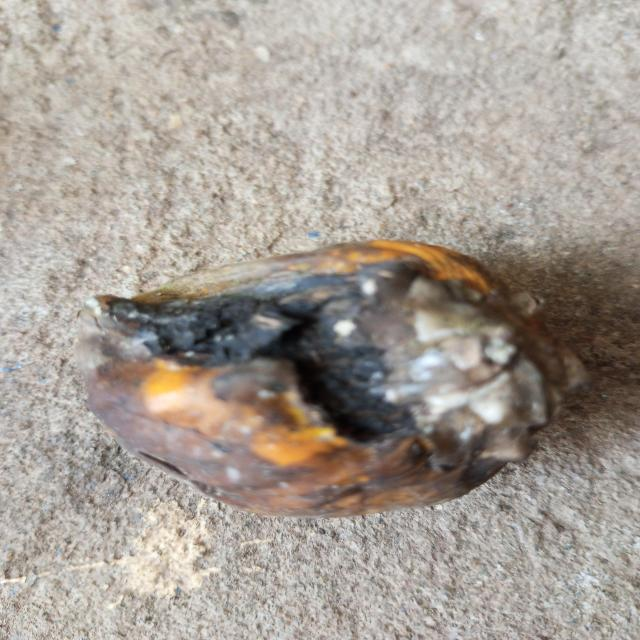damaged: (76, 241, 588, 516)
